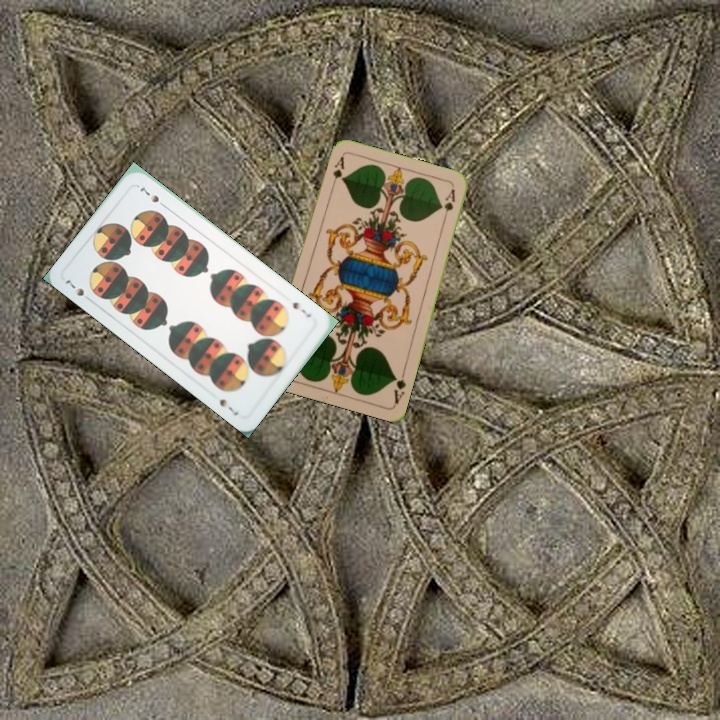GA: (327, 152, 347, 192), (389, 366, 408, 407)
S7: (61, 276, 95, 305), (288, 298, 314, 320)
